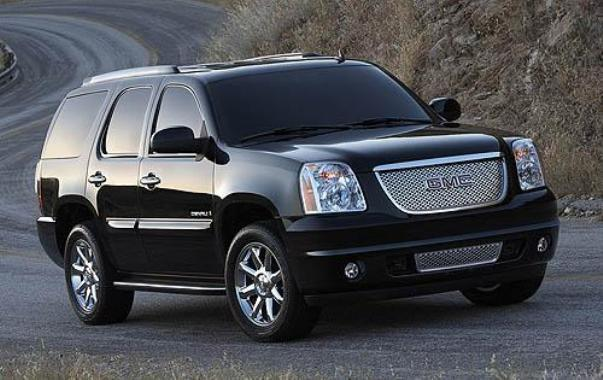GMC: (422, 169, 483, 194)
